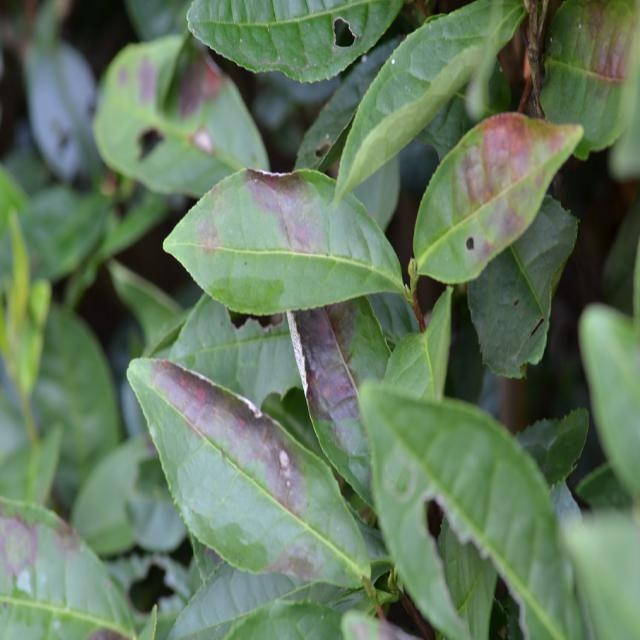Tea exobasidium blight: (146, 362, 311, 506), (447, 120, 567, 239), (221, 160, 350, 255)
